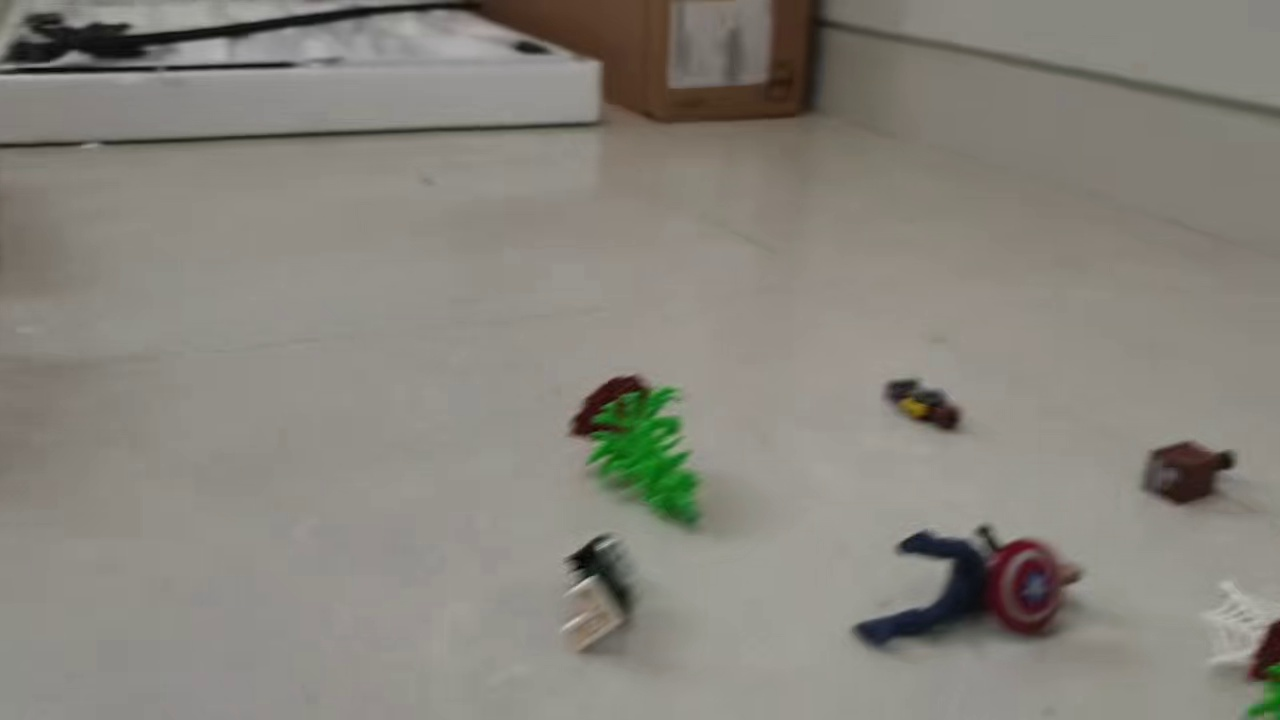box: (1141, 439, 1234, 508)
people: (850, 524, 1087, 654), (563, 532, 637, 654), (881, 374, 969, 438)
tree: (569, 374, 708, 536)
web: (1199, 576, 1280, 676)
